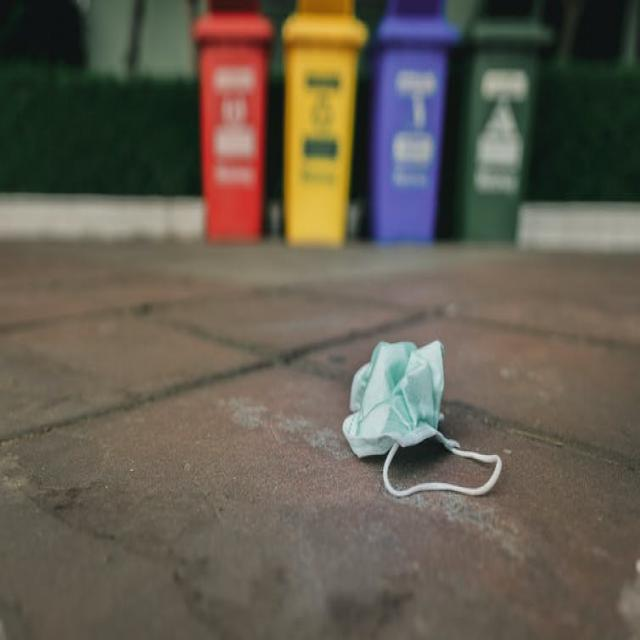non-organic waste: (346, 330, 504, 500)
